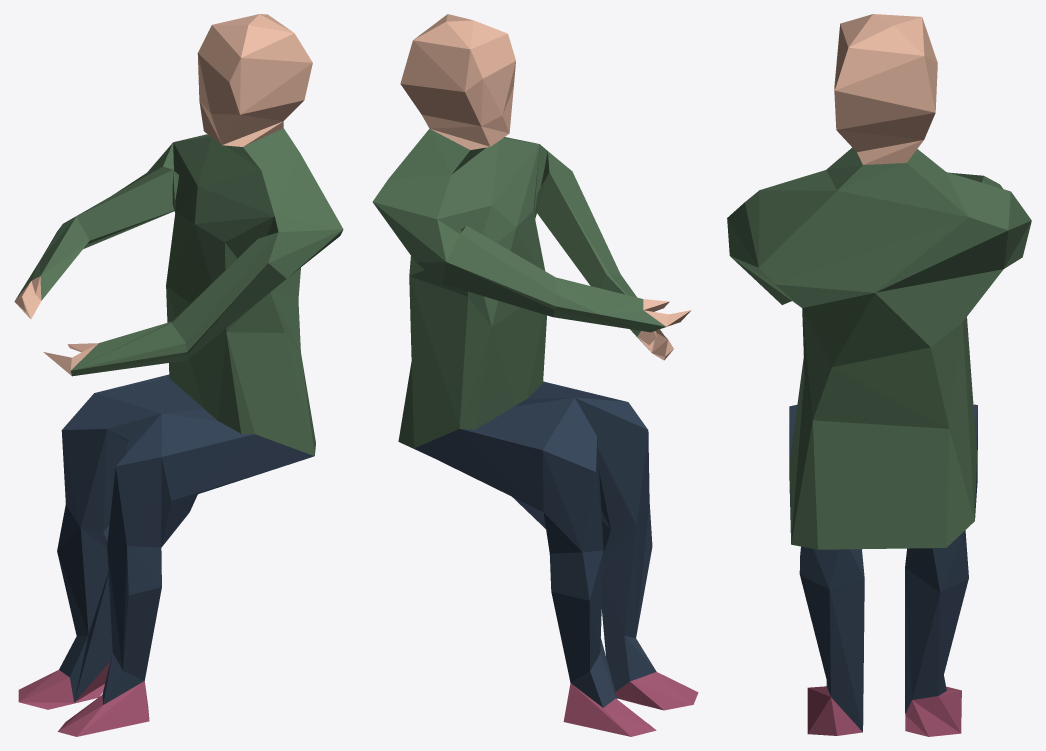
File: man_sitting.fbx
3 renders of one model, left to right at view 1: azimuth 30°, elevation 25°; view 2: azimuth 150°, elevation 25°; view 3: azimuth 270°, elevation 25°, orthographic. The views are drawn at different scales.
Parts seen in each view (by area): view 1: Man Sitting; view 2: Man Sitting; view 3: Man Sitting.
Boxes of the visible parts, x1,y1,x2,y2 form: Man Sitting: (14, 14, 343, 736); Man Sitting: (372, 14, 698, 736); Man Sitting: (727, 14, 1031, 736).
Bounding box in the file's own units: 218 × 486 × 168.
